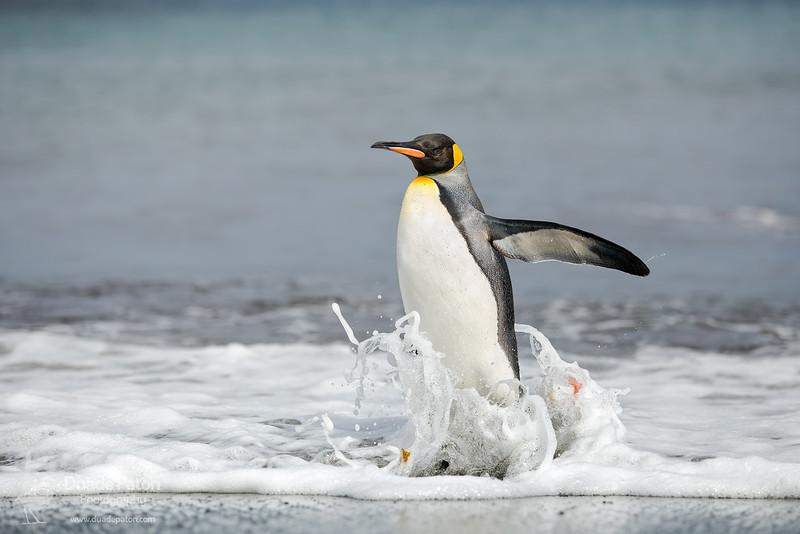king: (302, 111, 652, 478)
